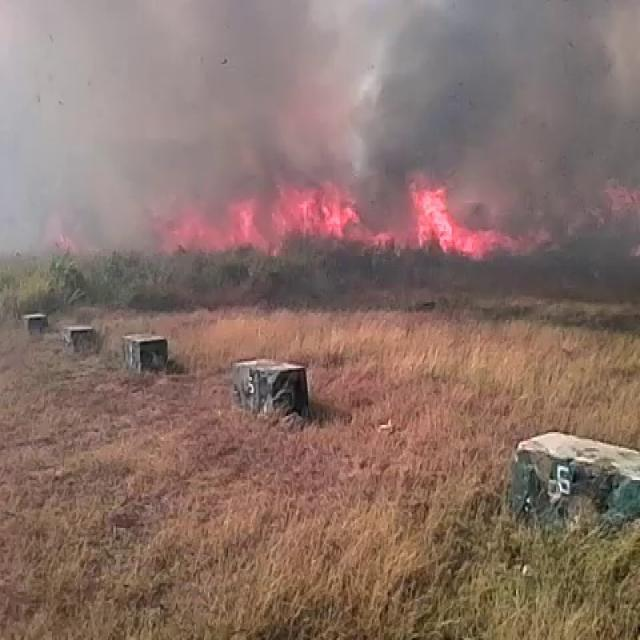Fire: (216, 182, 379, 254), (402, 174, 506, 264)
Smoke: (2, 0, 640, 259)
